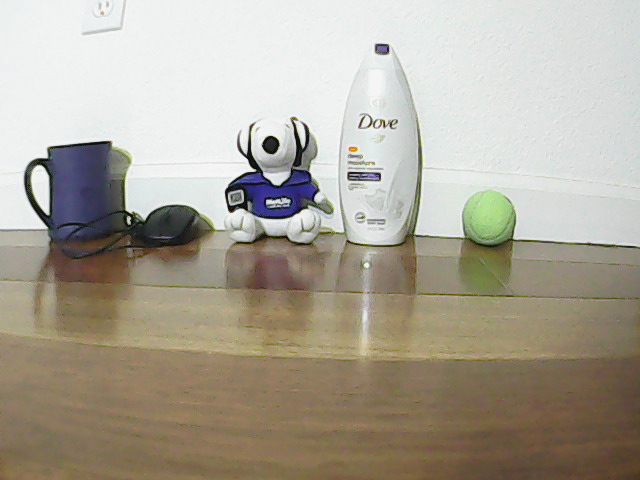ball: (464, 177, 521, 250)
mouse: (146, 202, 210, 249)
mug: (37, 126, 114, 238)
snoopy: (216, 119, 326, 246)
soap: (327, 38, 424, 248)
